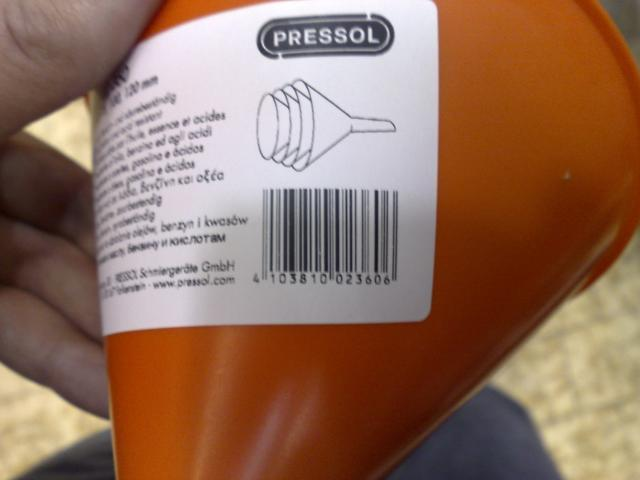Barcode: (247, 183, 407, 293)
